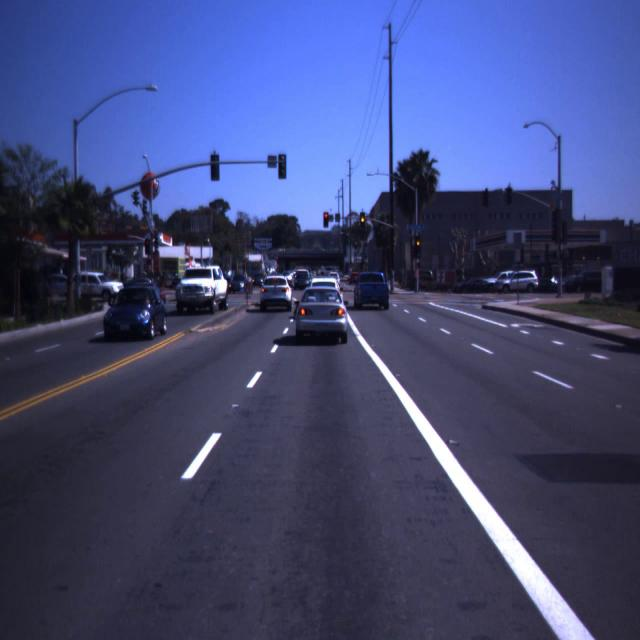stop left: (322, 212, 330, 227), (144, 240, 150, 252)
stop left traffic light: (322, 212, 330, 227), (144, 240, 150, 252)
warning: (413, 234, 422, 252), (358, 211, 367, 226)
warning traffic light: (413, 234, 422, 252), (358, 211, 367, 226)
